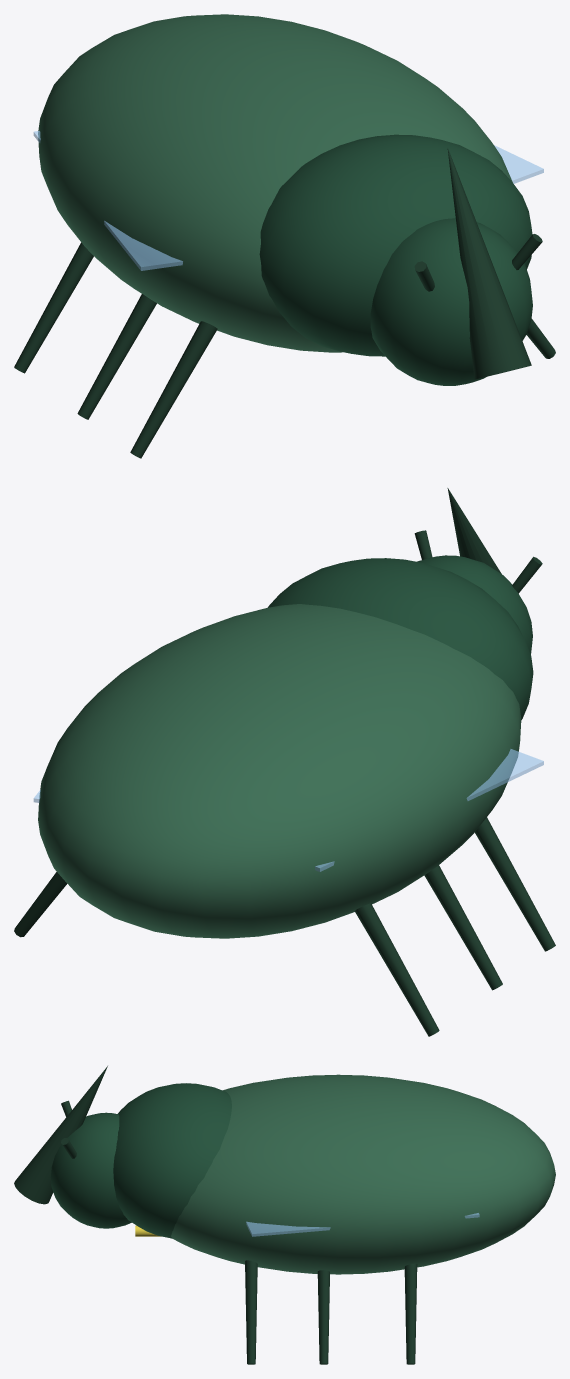
Rendered from xylotrupes_anatomy_sample.glb.
The picture shows the model from 3 angles, top to bottom: view 1: azimuth 30°, elevation 25°; view 2: azimuth 150°, elevation 25°; view 3: azimuth 270°, elevation 25°; orthographic projection. The views are drawn at different scales.
Parts seen in each view (by area): view 1: shell_elytra, shell_pronotum, shell_head, horn_cephalic, leg_1, leg_3, leg_2, hindwing_right, hindwing_left; view 2: shell_elytra, shell_pronotum, shell_head, leg_3, leg_1, leg_2, hindwing_right, horn_cephalic, leg_6; view 3: shell_elytra, shell_pronotum, shell_head, horn_cephalic, leg_4, leg_6, leg_5, hindwing_left.
Boxes of the visible parts, x1,y1,x2,y2 form: shell_elytra: [38, 14, 512, 352]; shell_pronotum: [259, 134, 532, 356]; shell_head: [370, 218, 532, 385]; horn_cephalic: [447, 148, 531, 379]; leg_1: [130, 321, 217, 458]; leg_3: [14, 242, 93, 373]; leg_2: [77, 294, 156, 419]; hindwing_right: [33, 131, 182, 270]; hindwing_left: [494, 145, 543, 183]; shell_elytra: [38, 604, 521, 938]; shell_pronotum: [268, 558, 533, 719]; shell_head: [417, 555, 532, 654]; leg_3: [354, 903, 439, 1036]; leg_1: [475, 817, 555, 951]; leg_2: [424, 865, 502, 990]; hindwing_right: [315, 749, 543, 871]; horn_cephalic: [447, 488, 501, 573]; leg_6: [14, 872, 67, 937]; shell_elytra: [171, 1074, 555, 1274]; shell_pronotum: [113, 1083, 231, 1238]; shell_head: [50, 1112, 131, 1228]; horn_cephalic: [14, 1066, 107, 1204]; leg_4: [245, 1260, 257, 1364]; leg_6: [404, 1263, 417, 1364]; leg_5: [317, 1270, 329, 1364]; hindwing_left: [246, 1213, 479, 1236].
Size of the model in its own units: 2.31 by 1.76 by 3.74.
